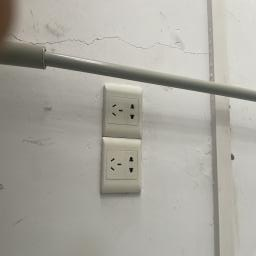outlet: (98, 140, 146, 197), (101, 84, 145, 140)
